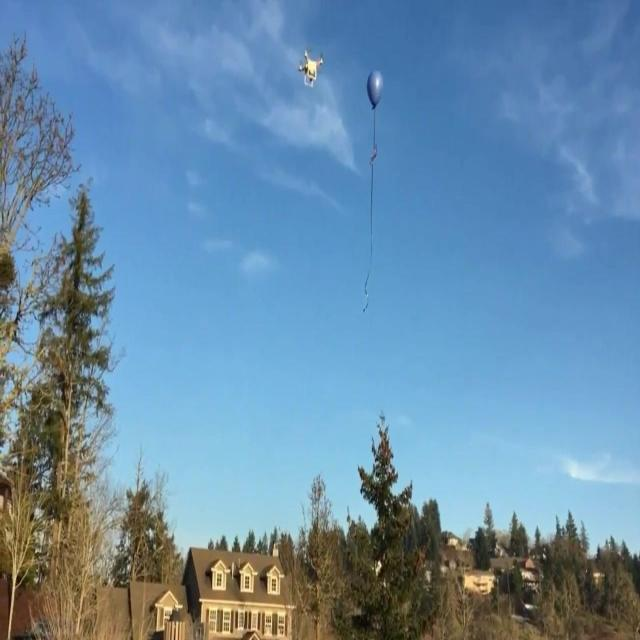drone: (298, 46, 324, 90)
